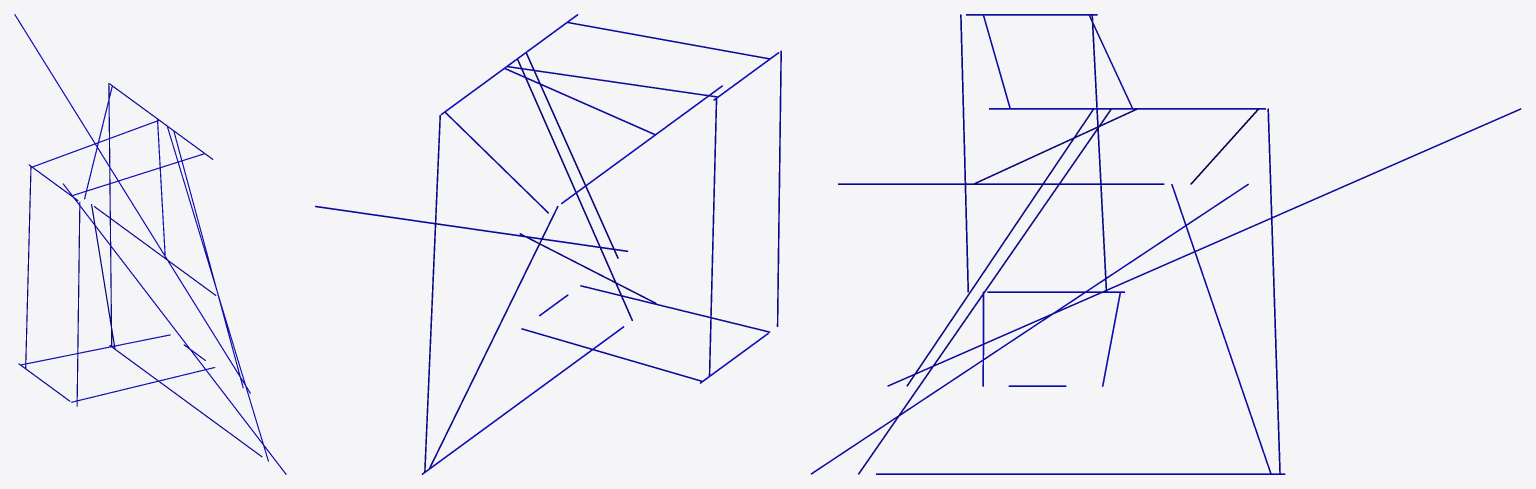
File: corrected_3d_strokes.glb
3 renders of one model, left to right at view 1: azimuth 30°, elevation 25°; view 2: azimuth 150°, elevation 25°; view 3: azimuth 270°, elevation 25°, orthographic. The views are drawn at different scales.
Parts seen in each view (by area): view 1: world; view 2: world; view 3: world.
Boxes of the visible parts, x1=… form: world: x1=14, y1=14, x2=286, y2=474; world: x1=315, y1=14, x2=781, y2=474; world: x1=810, y1=14, x2=1521, y2=474.
Bounding box in the file's own units: 5.78 × 9.82 × 17.47.
